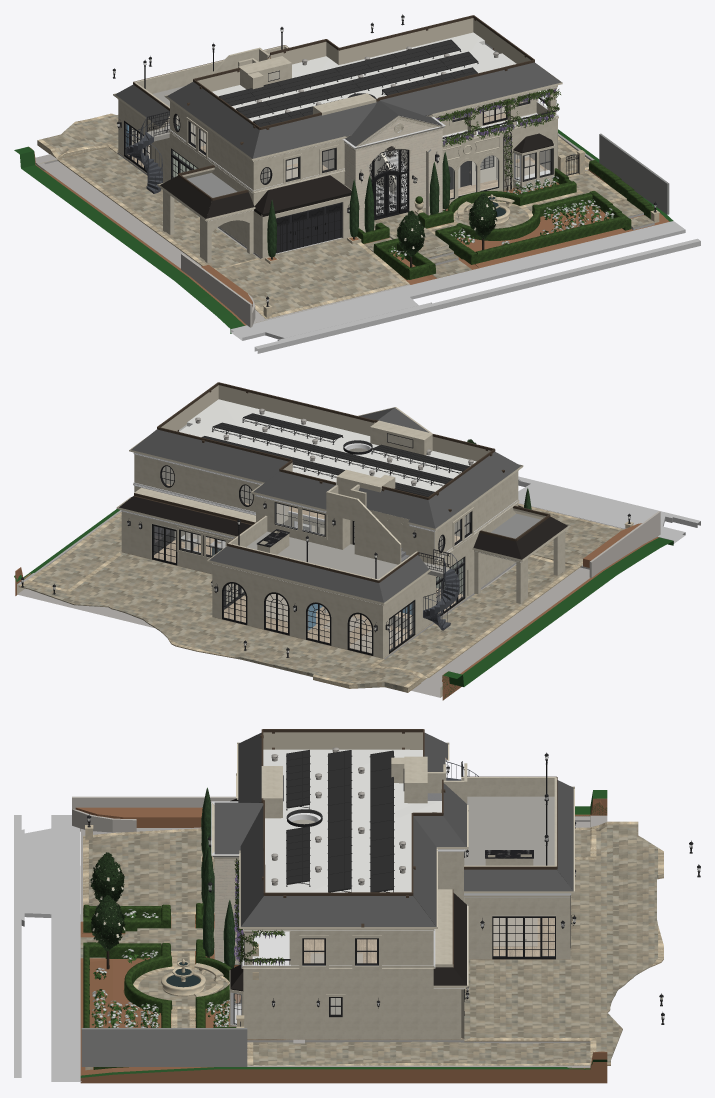
Rendered from exterior-house-40d329193e1c.glb.
3 views of the same model, one above another, from view 1: azimuth 30°, elevation 25°; view 2: azimuth 150°, elevation 25°; view 3: azimuth 270°, elevation 25° (orthographic). The views are drawn at different scales.
Visible parts, largest first — view 1: exterior-house-2097c6bf0b01330b, exterior-house-b5dfe7249a3eb059, exterior-house-e7e6fa835f441169, exterior-house-aee2d046b0172b1e, exterior-house-27d577fbd7f2ff4b, exterior-house-772a07b3069847f0, exterior-house-e33d7b378dc851e2, exterior-house-d56ee2a9d54b1fc2, exterior-house-8ae50a6395ceb8a4, exterior-house-0b9d5d1cd0b2c60f, exterior-house-7cf8e5cfa8b264af, exterior-house-25c3ff3929e46046 (+45 smaller); view 2: exterior-house-37d1b262fca80116, exterior-house-d56ee2a9d54b1fc2, exterior-house-27d577fbd7f2ff4b, exterior-house-8ae50a6395ceb8a4, exterior-house-969b861f9850351e, exterior-house-aee2d046b0172b1e, exterior-house-c91f911e25c8cae7, exterior-house-5febae1537653d02, exterior-house-3763e2fb8578d282, exterior-house-b5dfe7249a3eb059, exterior-house-2c1fd33d433632d0, exterior-house-0cae3eb2f2d52fad (+38 smaller); view 3: exterior-house-37d1b262fca80116, exterior-house-aee2d046b0172b1e, exterior-house-b5dfe7249a3eb059, exterior-house-d56ee2a9d54b1fc2, exterior-house-2c1fd33d433632d0, exterior-house-2097c6bf0b01330b, exterior-house-07f5bde4319b7ab4, exterior-house-e7e6fa835f441169, exterior-house-a75a0c9c223328ee, exterior-house-ded88bd99590d377, exterior-house-af97eba351c411ae, exterior-house-e706aa16b4547c37 (+54 smaller).
Part boxes in pixels (x1,y1,x2,y2): exterior-house-2097c6bf0b01330b: [216, 236, 409, 318]; exterior-house-b5dfe7249a3eb059: [230, 221, 685, 340]; exterior-house-e7e6fa835f441169: [357, 181, 625, 279]; exterior-house-aee2d046b0172b1e: [14, 129, 673, 333]; exterior-house-27d577fbd7f2ff4b: [57, 147, 260, 269]; exterior-house-772a07b3069847f0: [254, 238, 700, 353]; exterior-house-e33d7b378dc851e2: [380, 62, 560, 115]; exterior-house-d56ee2a9d54b1fc2: [212, 32, 516, 121]; exterior-house-8ae50a6395ceb8a4: [35, 133, 594, 323]; exterior-house-0b9d5d1cd0b2c60f: [236, 51, 478, 118]; exterior-house-7cf8e5cfa8b264af: [218, 39, 461, 105]; exterior-house-25c3ff3929e46046: [253, 101, 377, 158]; exterior-house-37d1b262fca80116: [18, 552, 427, 692]; exterior-house-d56ee2a9d54b1fc2: [181, 399, 476, 491]; exterior-house-27d577fbd7f2ff4b: [377, 555, 580, 677]; exterior-house-8ae50a6395ceb8a4: [17, 503, 624, 697]; exterior-house-969b861f9850351e: [212, 566, 380, 657]; exterior-house-aee2d046b0172b1e: [14, 509, 673, 700]; exterior-house-c91f911e25c8cae7: [131, 429, 288, 482]; exterior-house-5febae1537653d02: [209, 546, 383, 602]; exterior-house-3763e2fb8578d282: [134, 454, 259, 512]; exterior-house-b5dfe7249a3eb059: [518, 484, 685, 543]; exterior-house-2c1fd33d433632d0: [28, 512, 121, 589]; exterior-house-0cae3eb2f2d52fad: [428, 451, 520, 528]; exterior-house-37d1b262fca80116: [464, 821, 663, 1065]; exterior-house-aee2d046b0172b1e: [80, 790, 607, 1083]; exterior-house-b5dfe7249a3eb059: [24, 815, 81, 1081]; exterior-house-d56ee2a9d54b1fc2: [263, 749, 441, 892]; exterior-house-2c1fd33d433632d0: [247, 1041, 590, 1065]; exterior-house-2097c6bf0b01330b: [83, 828, 214, 921]; exterior-house-07f5bde4319b7ab4: [81, 1028, 247, 1066]; exterior-house-e7e6fa835f441169: [83, 903, 231, 1027]; exterior-house-a75a0c9c223328ee: [241, 896, 436, 926]; exterior-house-ded88bd99590d377: [464, 796, 554, 865]; exterior-house-af97eba351c411ae: [372, 979, 461, 1038]; exterior-house-e706aa16b4547c37: [464, 897, 567, 959].
Bounding box in the file's own units: 31.9 × 8.68 × 35.2.
110 materials, 31 textured.
